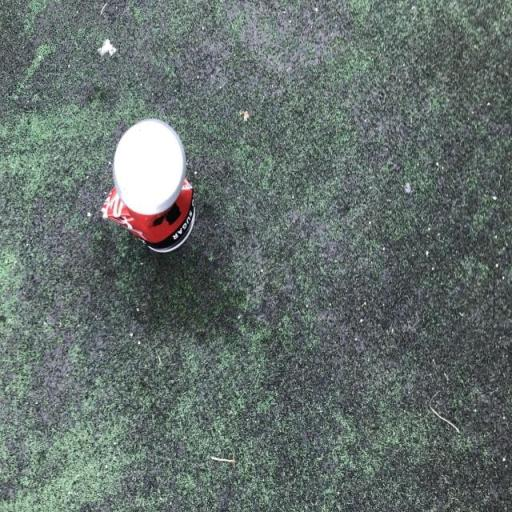metal: (81, 105, 217, 270)
